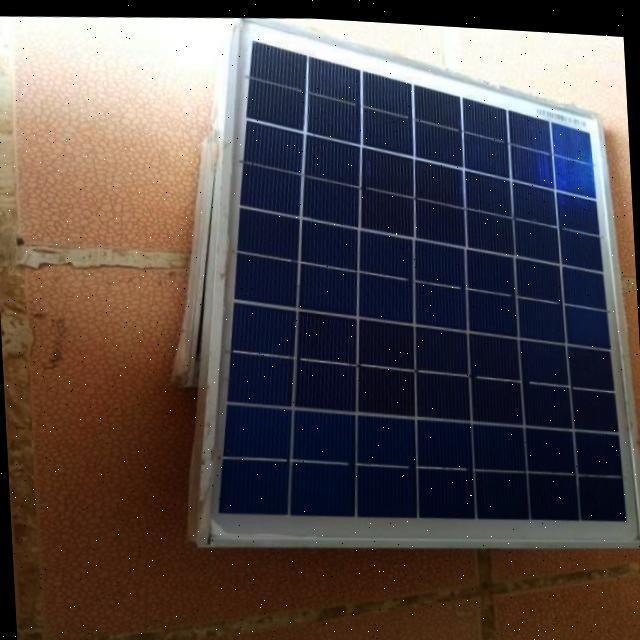Normal Solar Panel: (178, 8, 640, 564)
